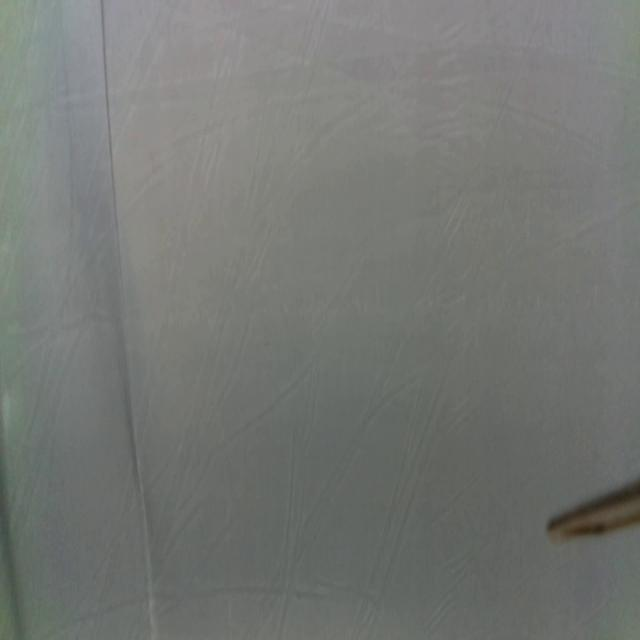crease: (101, 1, 158, 640)
